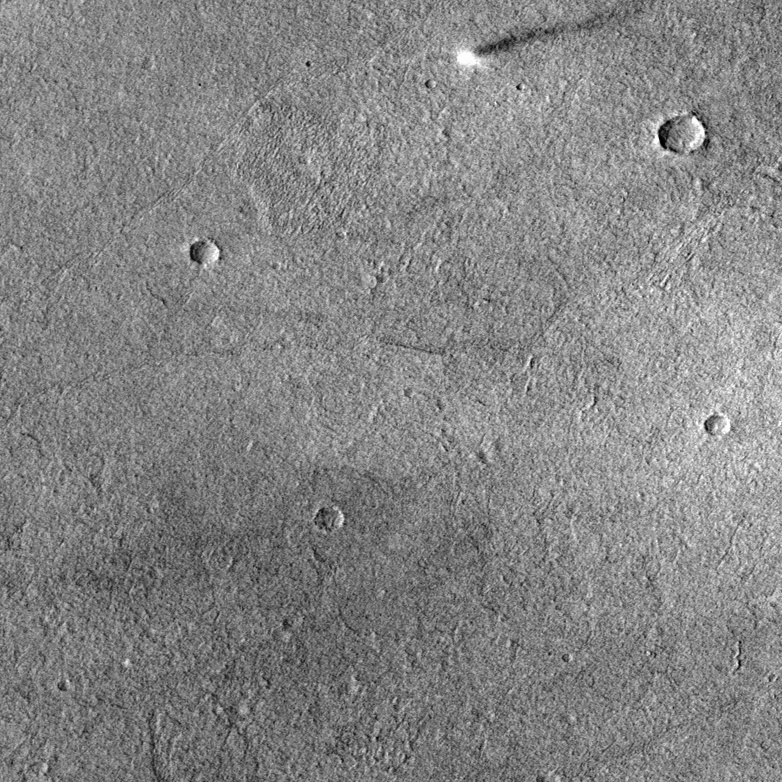dust_devil: (454, 1, 643, 70)
